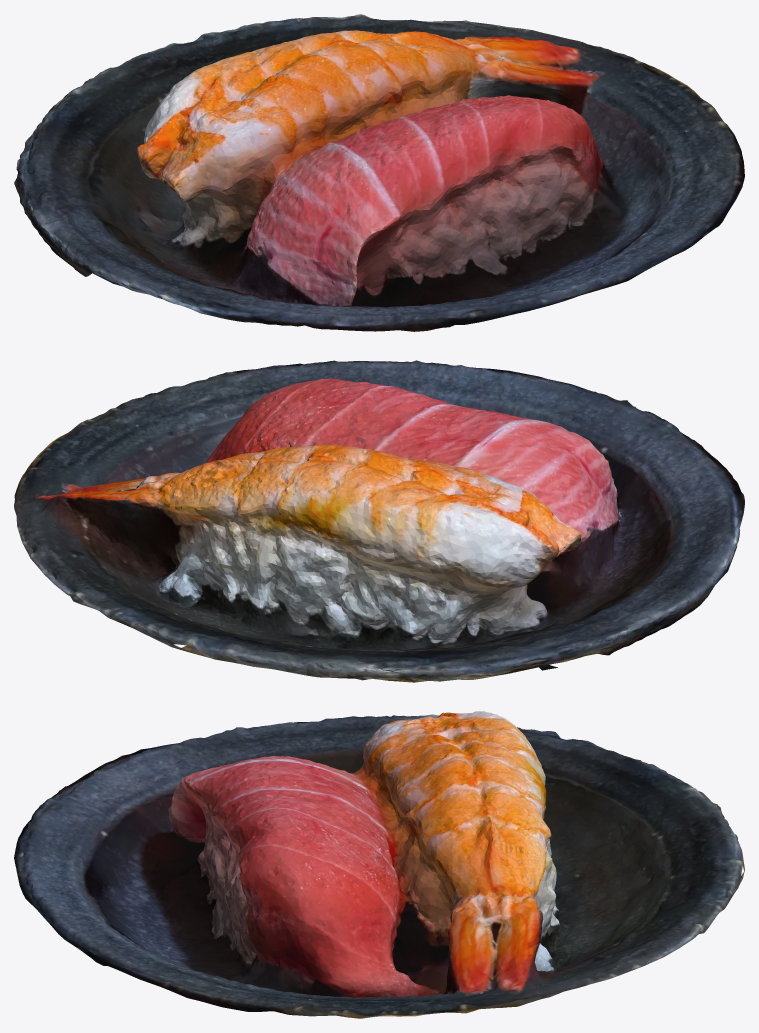
The model's file is sushi_lt.glb.
3 views of the same model, one above another, from view 1: azimuth 30°, elevation 25°; view 2: azimuth 150°, elevation 25°; view 3: azimuth 270°, elevation 25° (orthographic).
Size of the model in its own units: 0.1149 by 0.0336 by 0.115.
1 material, 1 textured.
